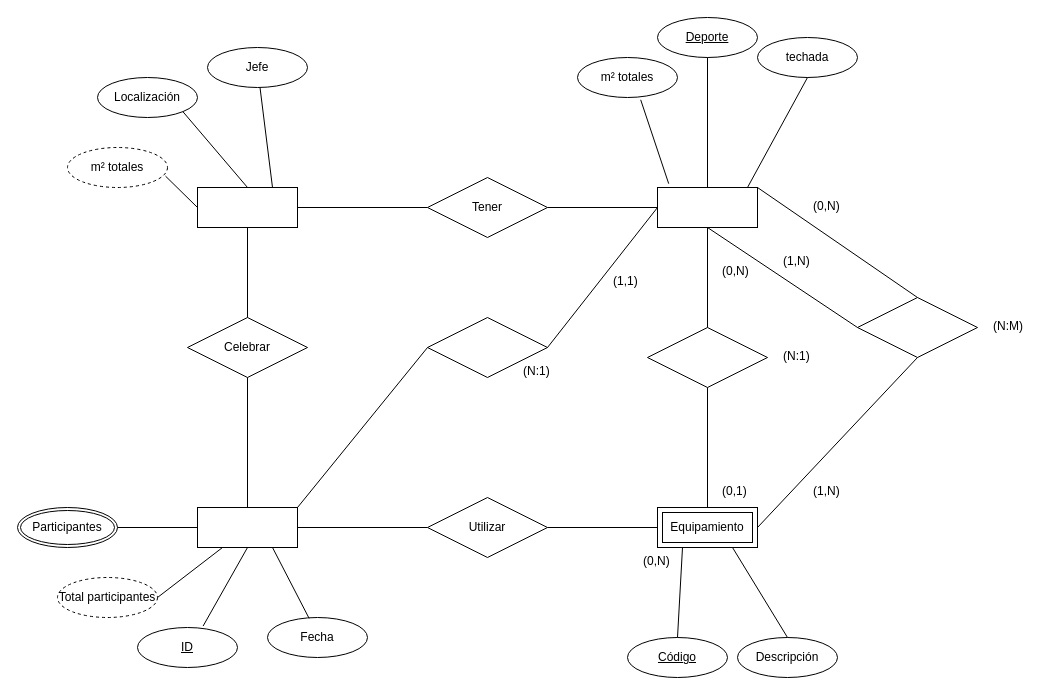
Image size: 1045x695. Some labels were removed from this diagram. Here are the shapes that lost their labels. From the top down, the box of each, then its label:
(196, 186, 298, 228): Complejo deportivo
(656, 186, 758, 228): Áreas
(426, 316, 548, 378): Acoger
(856, 296, 978, 358): Ceder
(646, 326, 768, 388): Pertenecer
(196, 506, 298, 548): Eventos
